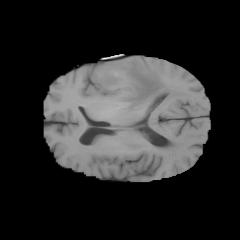glioma: (91, 60, 171, 109)
